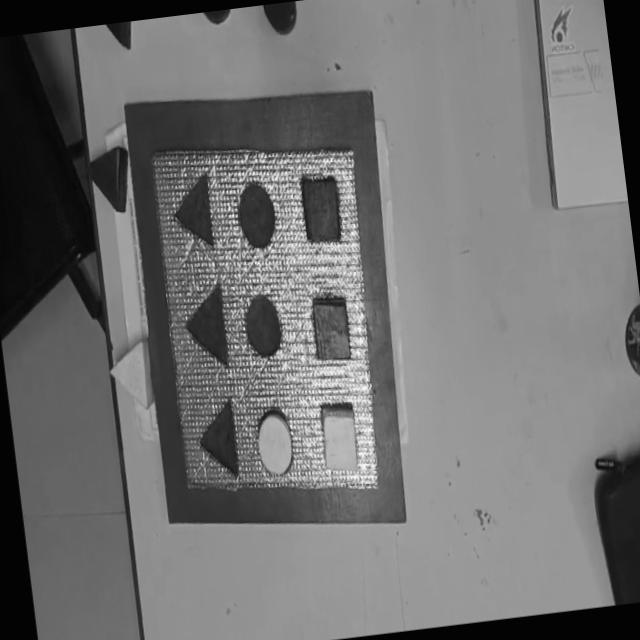bcube: (299, 174, 344, 246), (105, 22, 135, 52)
mtcircle: (233, 179, 280, 253), (242, 292, 286, 361)
mttriangle: (180, 282, 232, 372), (192, 398, 242, 484), (169, 172, 218, 254)
rcube: (310, 292, 353, 363)
rtriangle: (86, 144, 135, 217)
wb: (145, 126, 394, 514)
ycircle: (252, 408, 296, 478)
ycube: (317, 401, 361, 477)
ytriangle: (105, 336, 155, 412)
